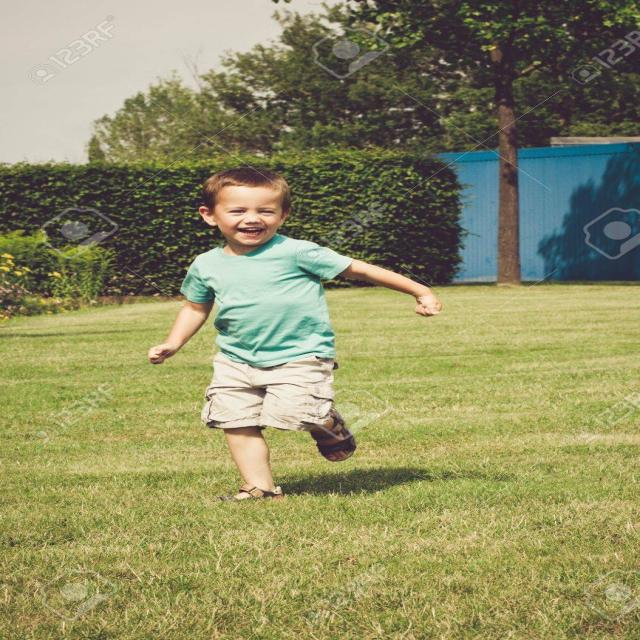Person: (150, 167, 443, 503)
